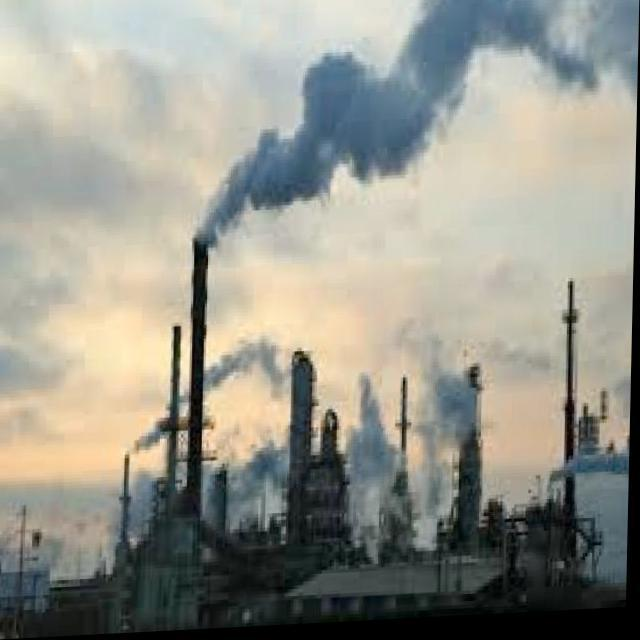Smoke: (194, 0, 640, 252), (115, 326, 499, 585)
